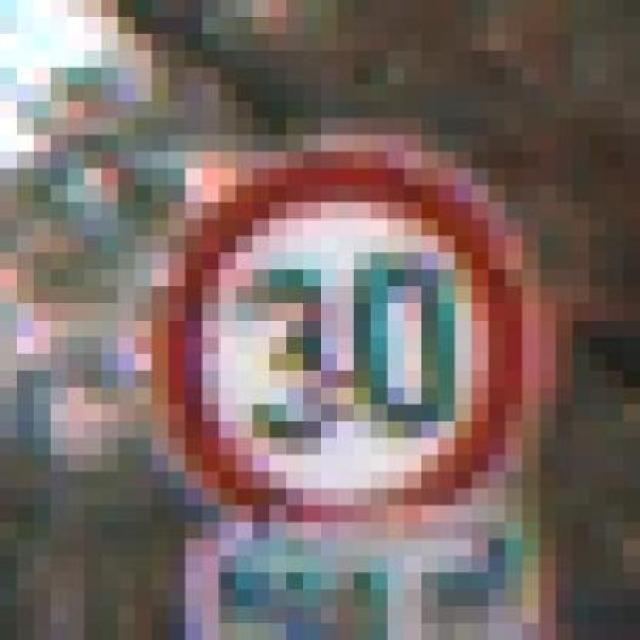forb_speed_over_30: (162, 155, 523, 526)
